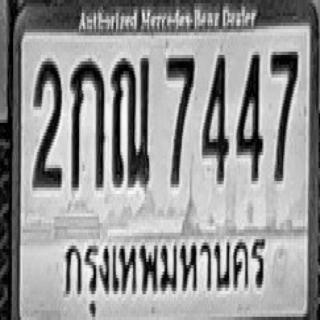A01: (70, 55, 104, 188)
A19: (111, 53, 149, 186)
N02: (32, 57, 61, 186)
N04: (202, 50, 228, 182), (236, 50, 262, 179)
N07: (166, 52, 195, 184), (270, 47, 298, 180)
P04: (60, 229, 270, 298)
